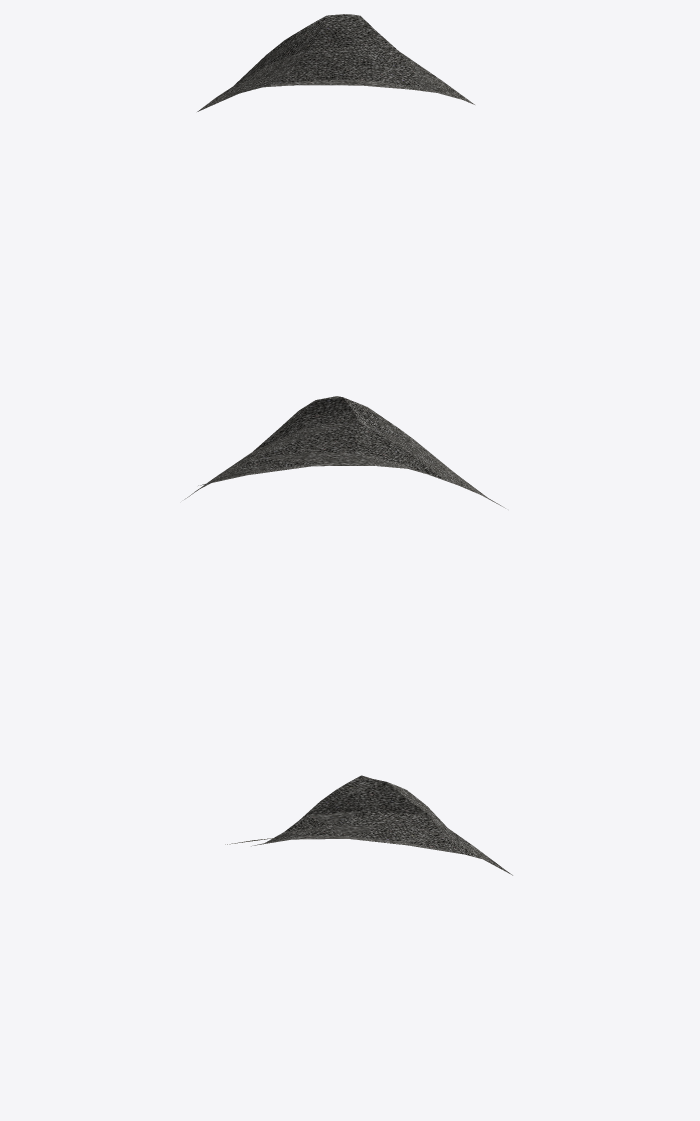
File: GS_ROBOTNIK.glb
3 renders of one model, top to bottom at view 1: azimuth 30°, elevation 25°; view 2: azimuth 150°, elevation 25°; view 3: azimuth 270°, elevation 25°, orthographic.
Parts seen in each view (by area): view 1: GS_ROBOTNIK; view 2: GS_ROBOTNIK; view 3: GS_ROBOTNIK.
Boxes of the visible parts, x1,y1,x2,y2 form: GS_ROBOTNIK: [197, 14, 474, 111]; GS_ROBOTNIK: [184, 396, 505, 508]; GS_ROBOTNIK: [225, 775, 512, 875].
Bounding box in the file's own units: 0.3449 × 0.1201 × 0.3434.
Materials: 2 (2 with a texture image).
